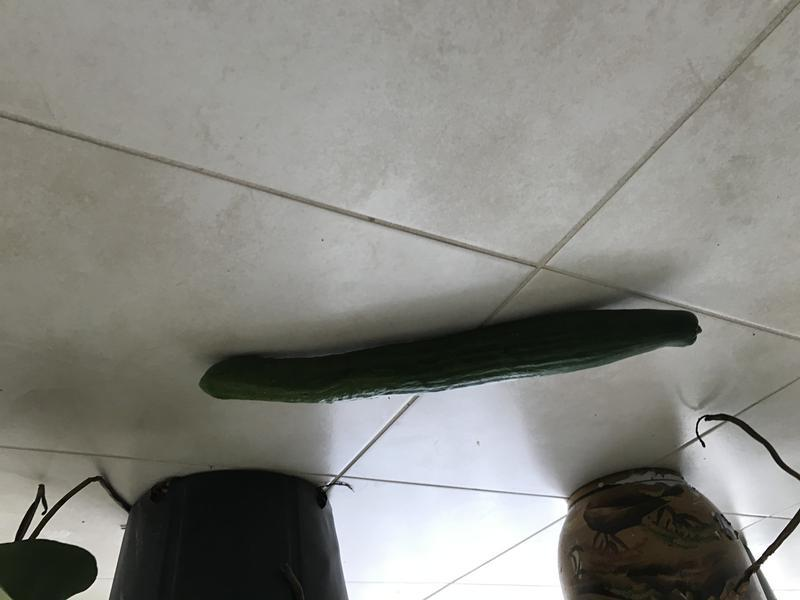cucumber: (188, 300, 711, 416)
